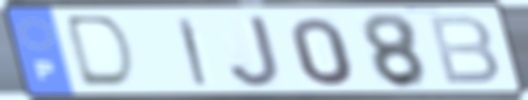0: (286, 13, 359, 88)
8: (359, 9, 431, 91)
B: (423, 13, 504, 87)
D: (65, 13, 139, 91)
I: (174, 15, 211, 88)
J: (226, 13, 284, 90)
